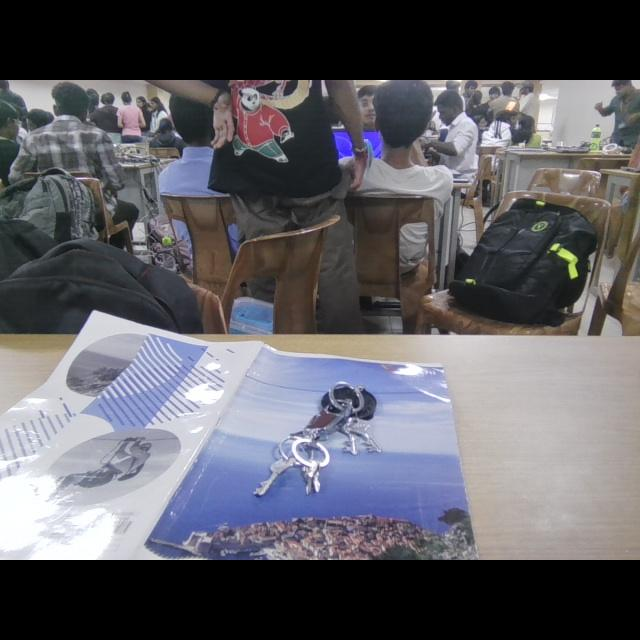keys: (252, 377, 384, 498)
